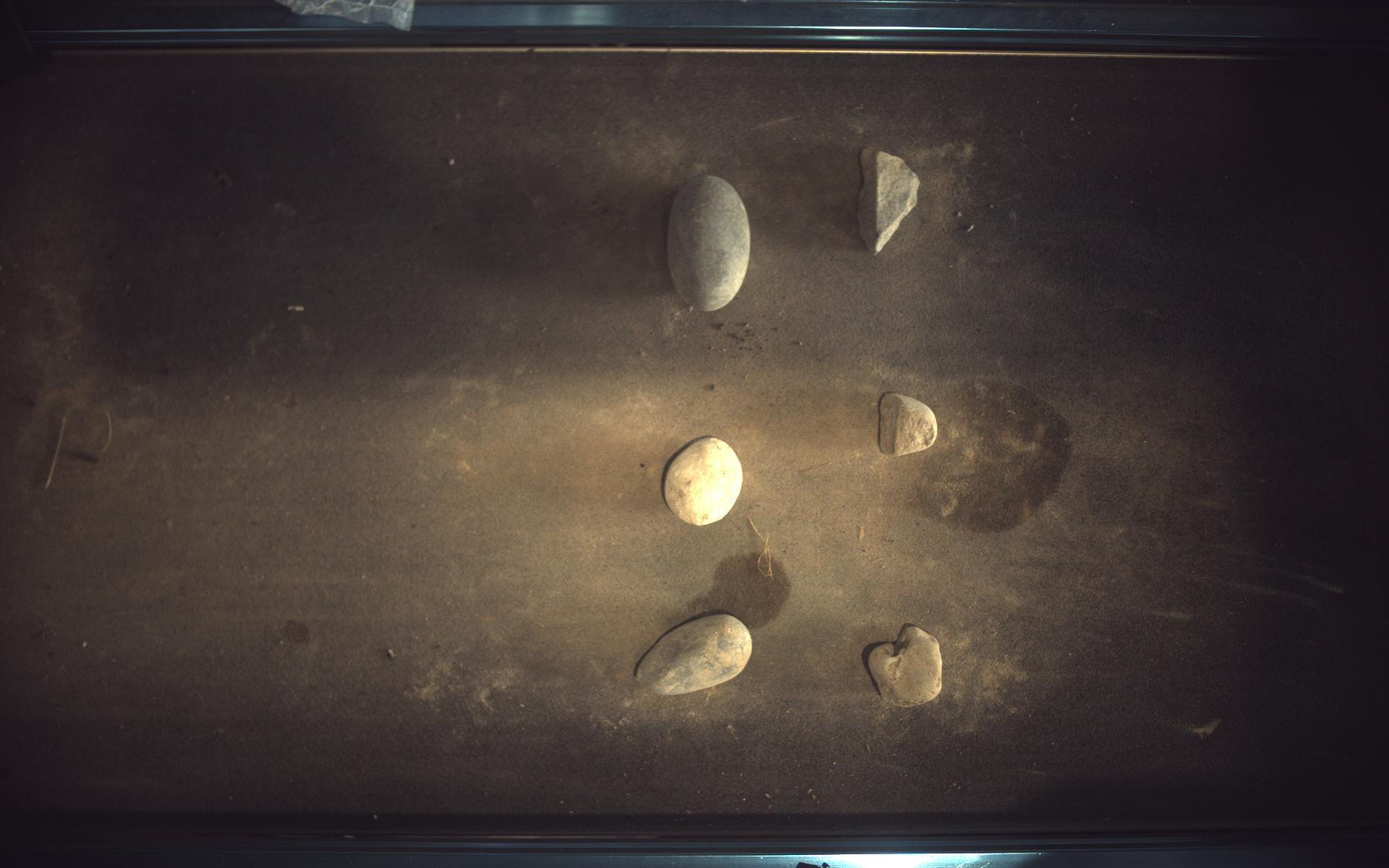stone: (668, 175, 752, 311), (637, 616, 753, 696), (666, 438, 744, 526), (859, 147, 922, 253), (870, 625, 944, 708), (880, 393, 939, 456)
